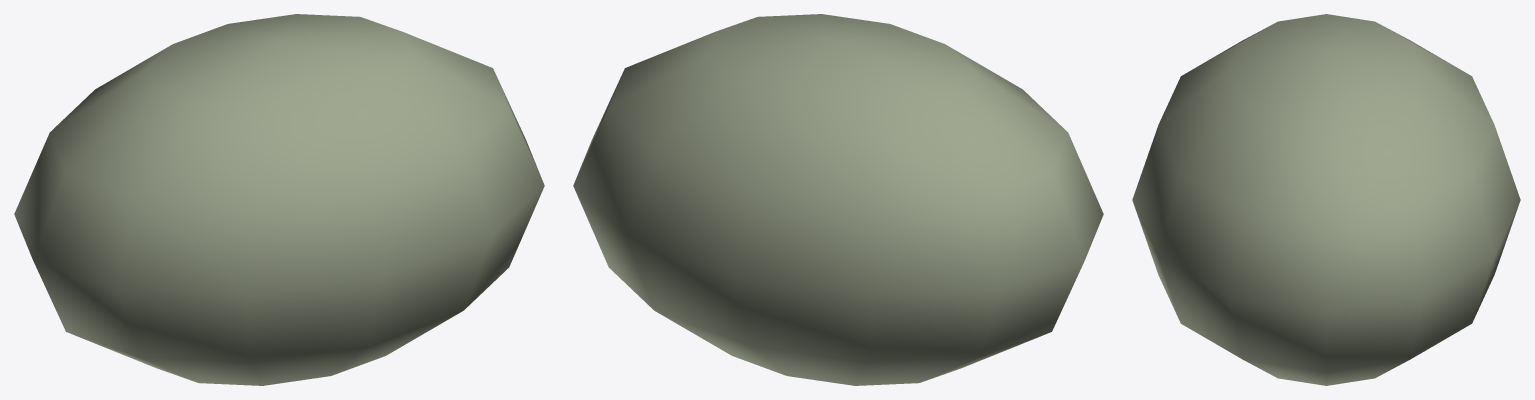
The model's file is rock.glb.
The picture shows the model from 3 angles, left to right: view 1: azimuth 30°, elevation 25°; view 2: azimuth 150°, elevation 25°; view 3: azimuth 270°, elevation 25°; orthographic projection. The views are drawn at different scales.
Visible parts, largest first — view 1: body; view 2: body; view 3: body.
Boxes of the visible parts, box(x1,y1,x2,y2) form: body: box(14, 14, 544, 385); body: box(573, 14, 1103, 385); body: box(1132, 14, 1520, 385).
Size of the model in its own units: 1.1 by 0.68 by 0.8.
